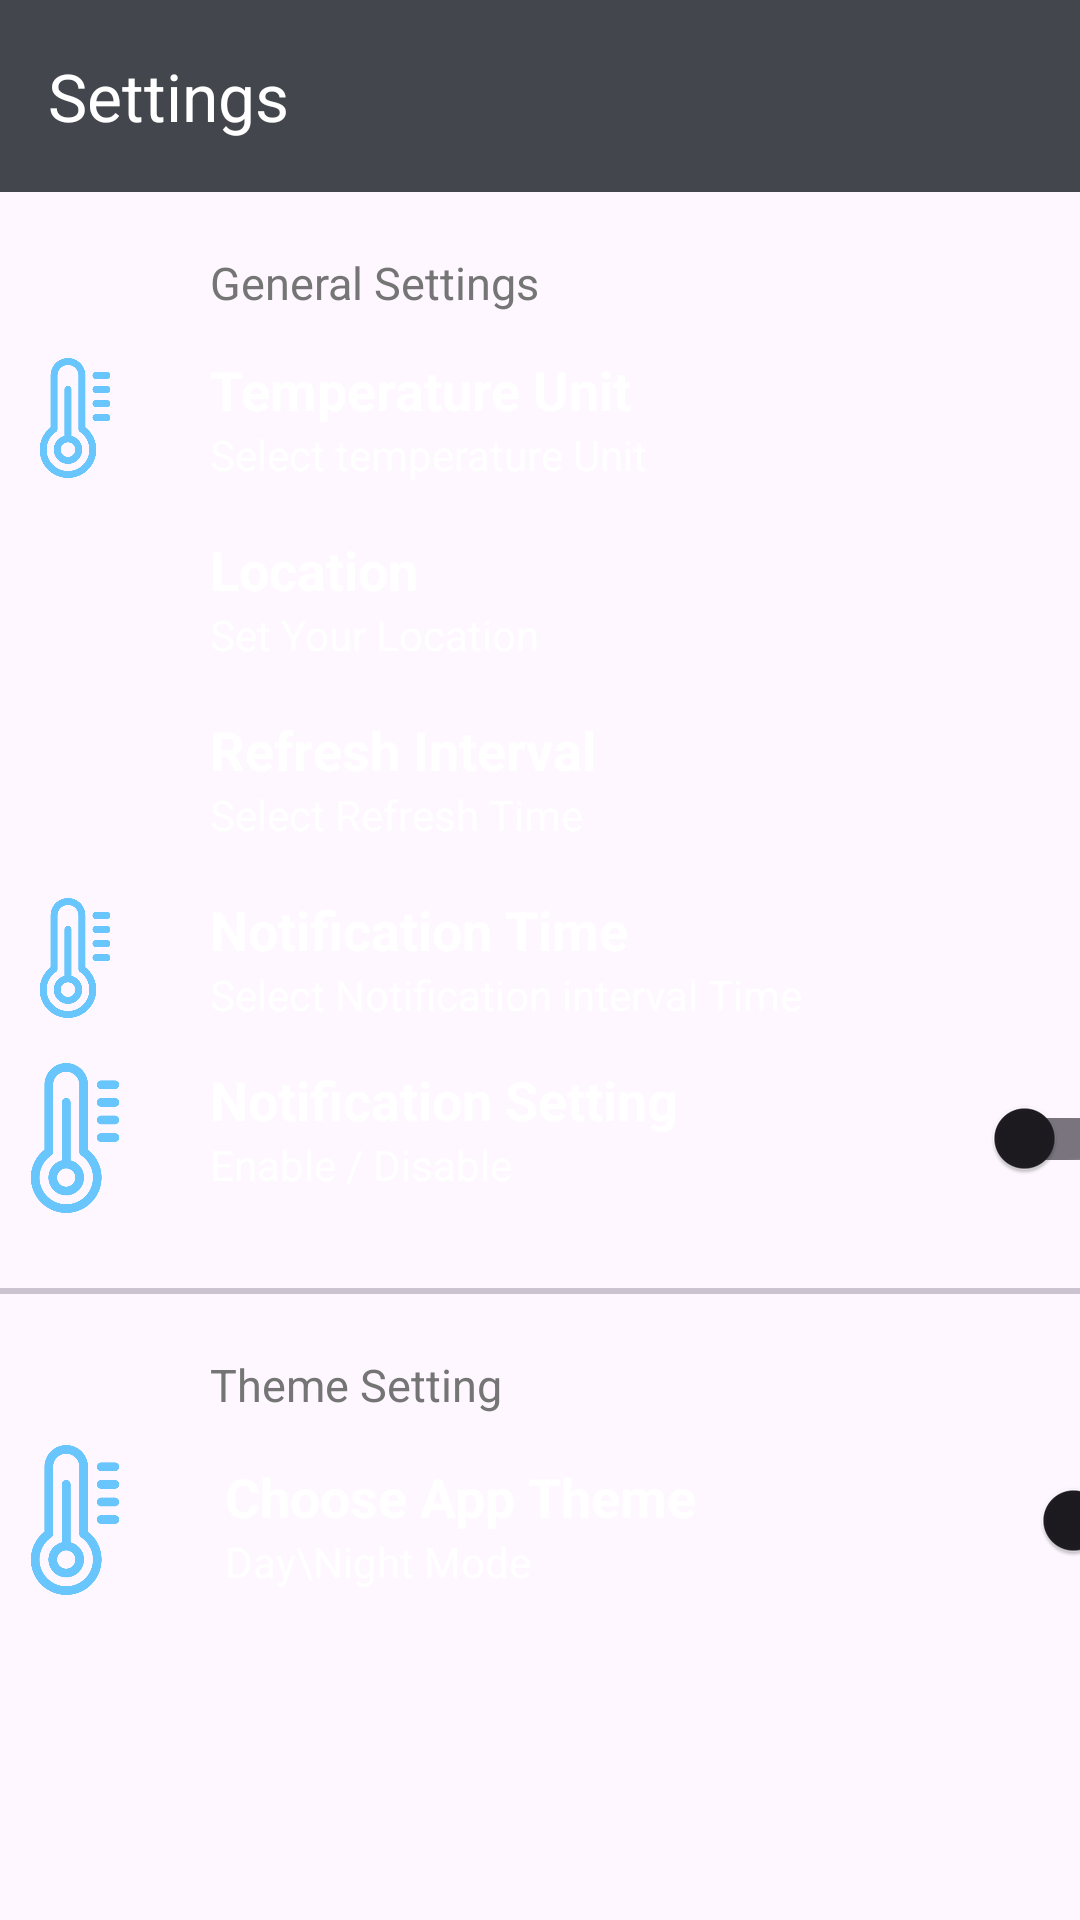

Where icons sit on this 1080×1920 app screen, as [x1, y1, x2, y2]:
thermometerl: [40, 358, 110, 478], [40, 898, 110, 1018], [31, 1063, 119, 1213], [31, 1445, 119, 1595]
